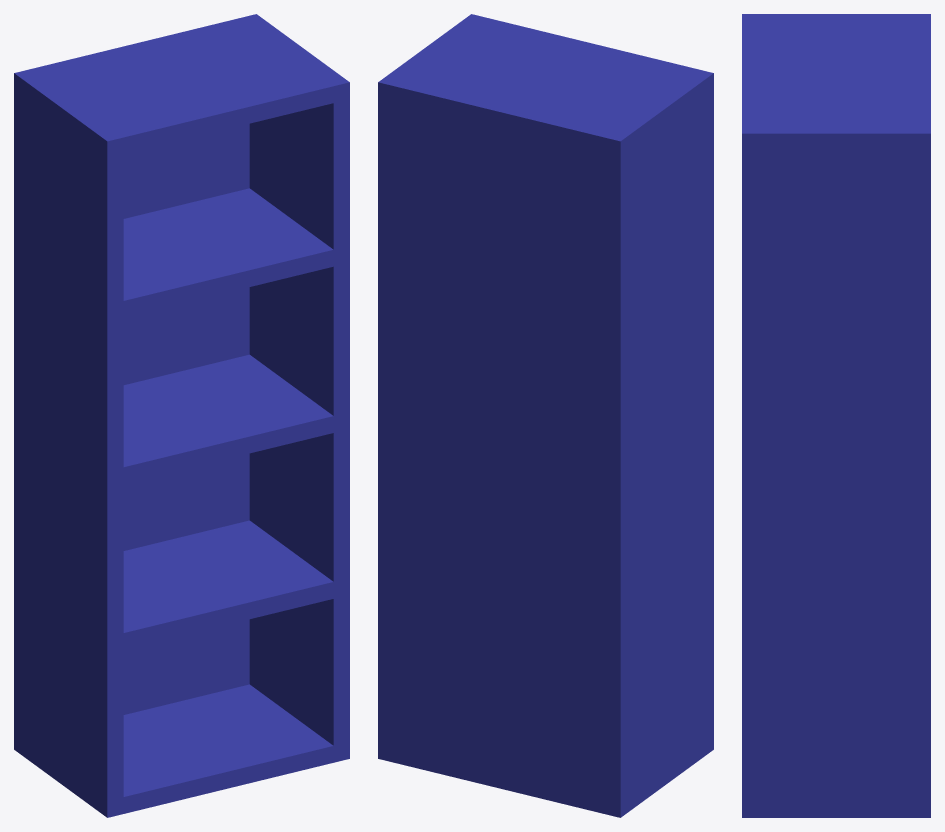
The model's file is entertainSide_3x4x1.FBX.
3 renders of one model, left to right at view 1: azimuth 30°, elevation 25°; view 2: azimuth 150°, elevation 25°; view 3: azimuth 270°, elevation 25°, orthographic.
Parts seen in each view (by area): view 1: entertainSide_3x4x1; view 2: entertainSide_3x4x1; view 3: entertainSide_3x4x1.
Part boxes in pixels (bbox=[...]): entertainSide_3x4x1: bbox=[14, 14, 349, 817]; entertainSide_3x4x1: bbox=[378, 14, 713, 817]; entertainSide_3x4x1: bbox=[742, 14, 930, 817].
Size of the model in its own units: 1.5 by 4 by 1.
